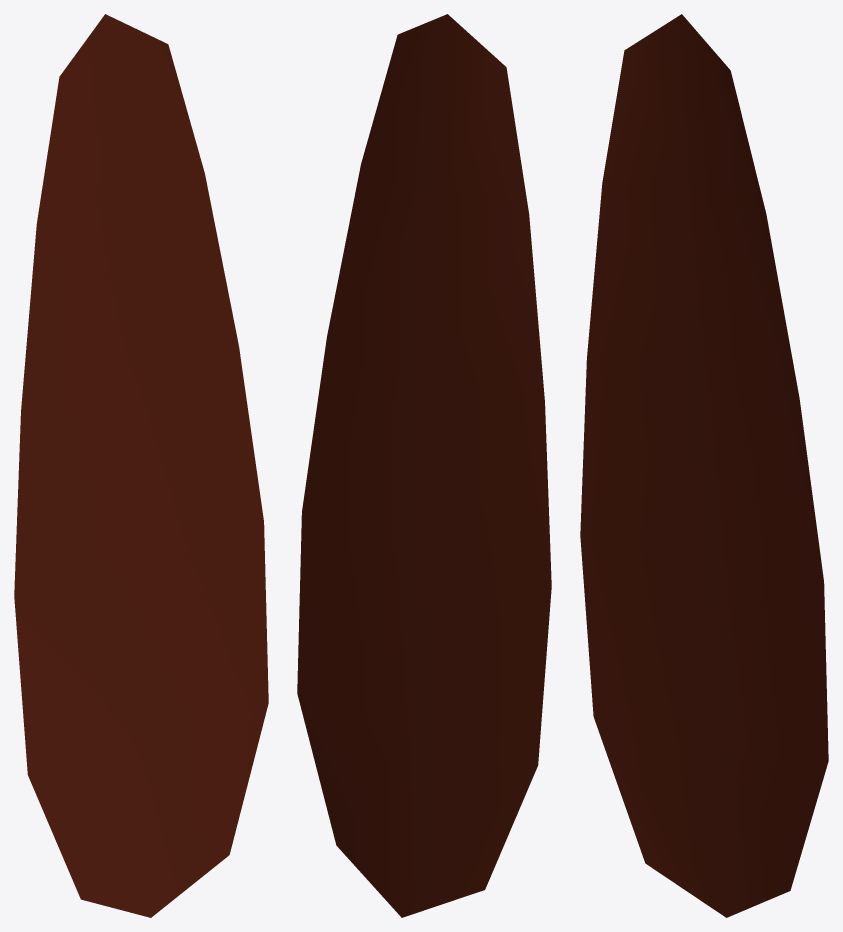
The model's file is finch_feather_flight_tertiary_040.obj.
3 views of the same model, side by side, from view 1: azimuth 30°, elevation 25°; view 2: azimuth 150°, elevation 25°; view 3: azimuth 330°, elevation 25° (orthographic). The views are drawn at different scales.
Parts seen in each view (by area): view 1: feather_flight_tertiary_040; view 2: feather_flight_tertiary_040; view 3: feather_flight_tertiary_040.
Part boxes in pixels (x1,y1,x2,y2): feather_flight_tertiary_040: [14, 14, 268, 917]; feather_flight_tertiary_040: [297, 14, 551, 917]; feather_flight_tertiary_040: [580, 14, 828, 917].
Size of the model in its own units: 0.00344 by 0.0118 by 0.000153.
